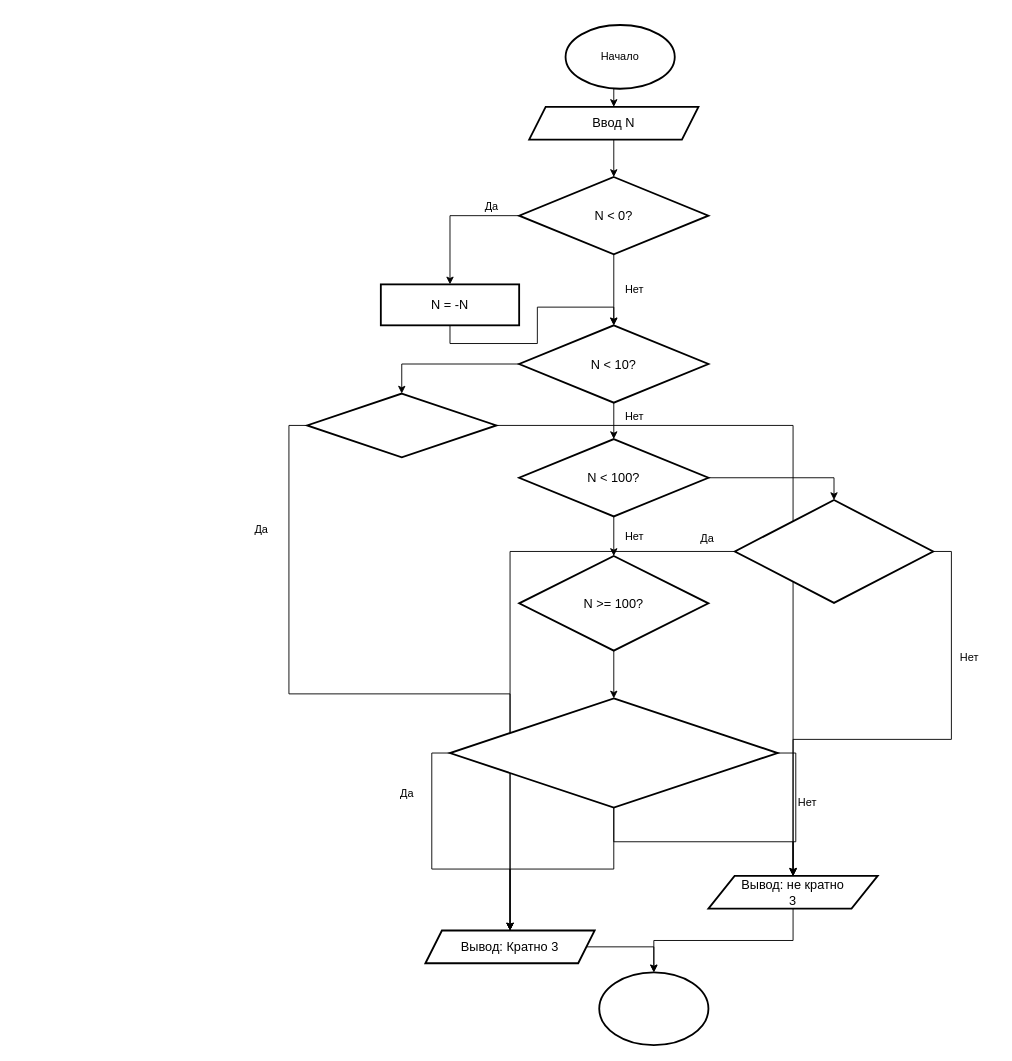
This 1012x1061 diagram has some shape labels left out. Each missing label, with the centre of its shape:
(N % 10 + N / 10) % 3 == 0 ?: (x=833, y=551)
(N / 100 + (N / 10) % 10 + N % 10) % 3 == 0 ?: (x=613, y=752)
N%3 == 0?: (x=401, y=425)
Конец: (x=653, y=1008)
